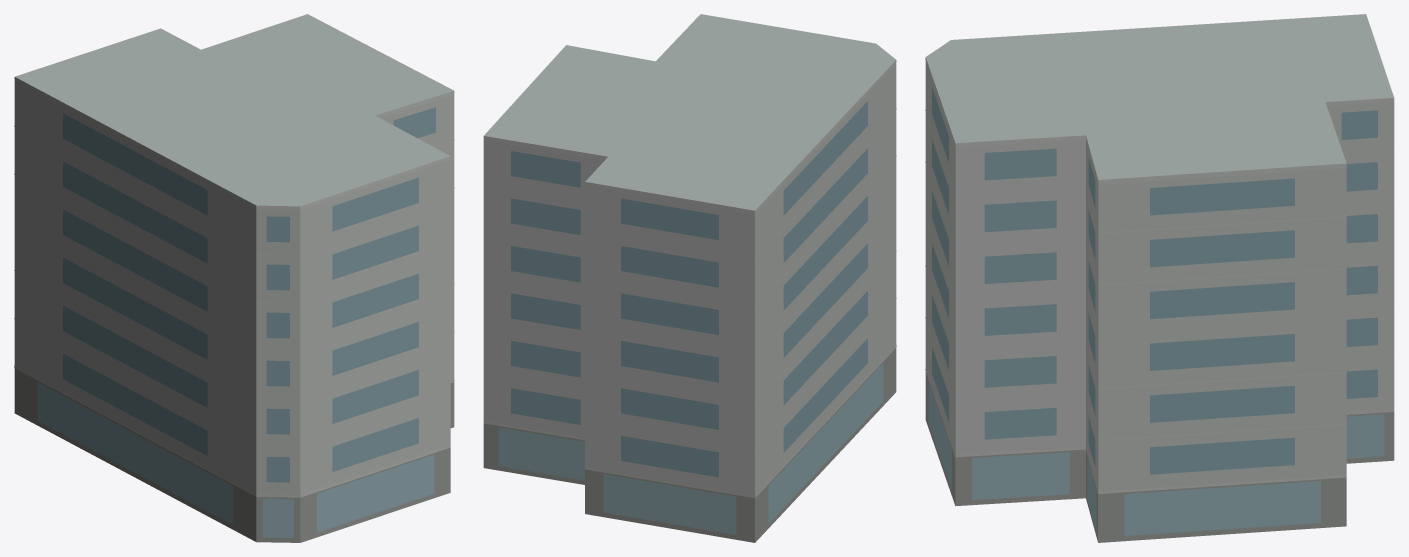
File: survey-upis-32707838.glb
3 renders of one model, left to right at view 1: azimuth 30°, elevation 25°; view 2: azimuth 150°, elevation 25°; view 3: azimuth 270°, elevation 25°, orthographic. The views are drawn at different scales.
Parts seen in each view (by area): view 1: survey-upis-32707838.tmp; view 2: survey-upis-32707838.tmp; view 3: survey-upis-32707838.tmp.
Part boxes in pixels (bbox=[...]): survey-upis-32707838.tmp: bbox=[14, 14, 454, 542]; survey-upis-32707838.tmp: bbox=[483, 14, 896, 542]; survey-upis-32707838.tmp: bbox=[925, 14, 1394, 542].
Size of the model in its own units: 19.06 by 19.4 by 22.73.
